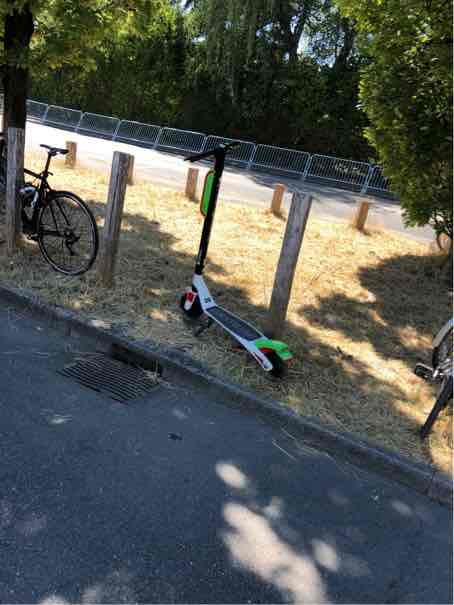scooter: (166, 131, 298, 385)
